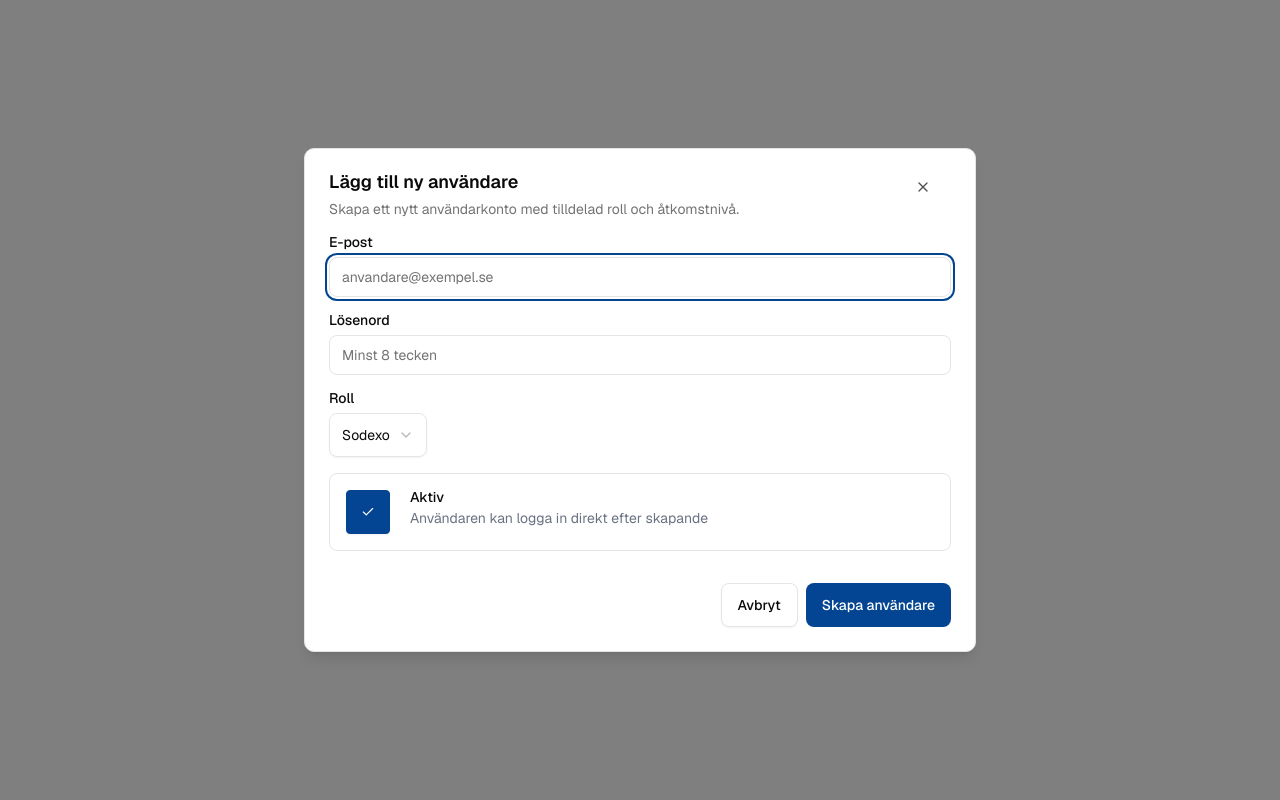
Scenario: AddUserModal › validates password length
Type "short" into the password field labelled "Lösenord" at [640, 355], box [329,335,951,375]
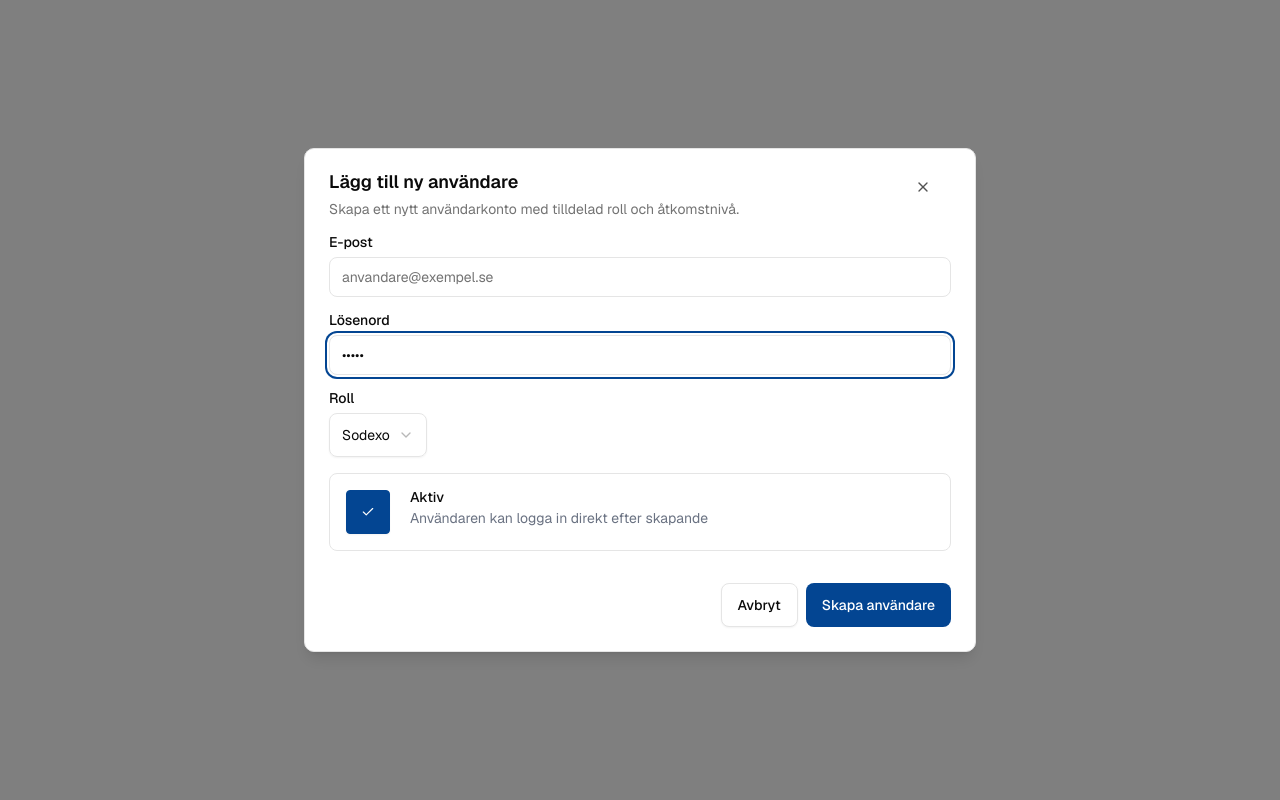
# Submit the form to trigger validation
Click the button "Skapa användare" at [878, 605], box [806,583,951,627]
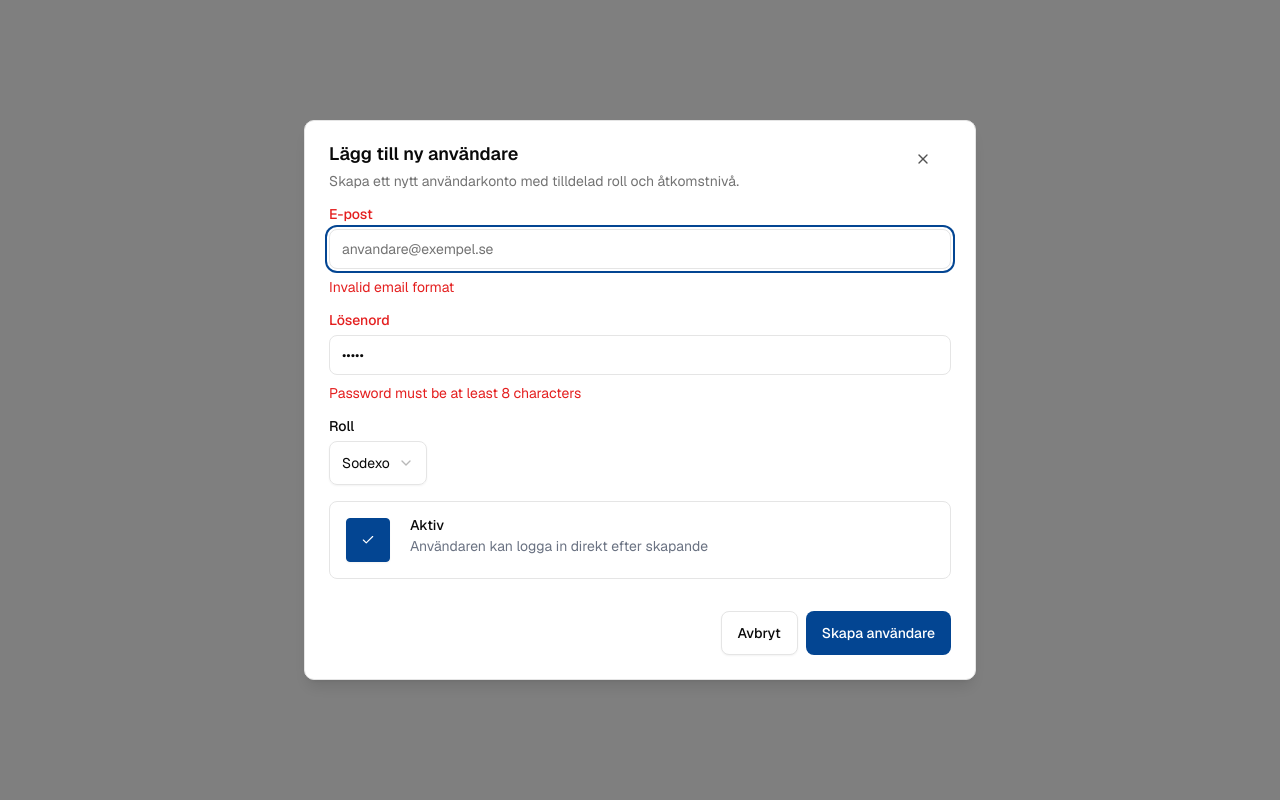
Expected: the text "Password must be at least 8 characters" is shown, [329,384,581,402]
